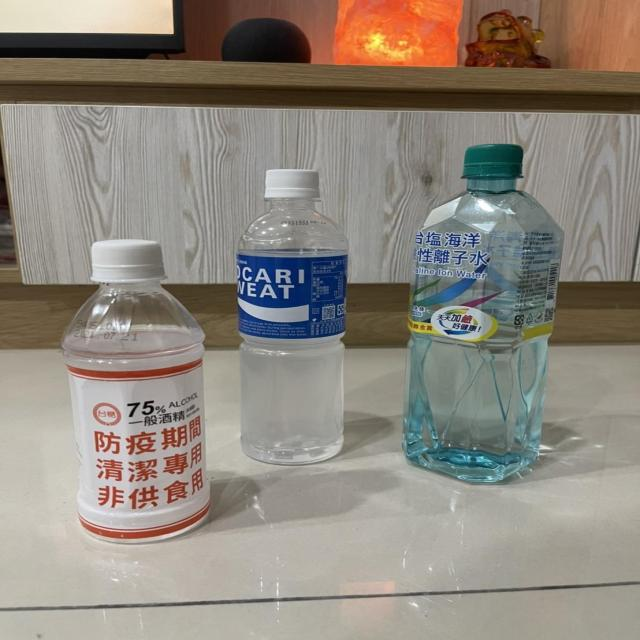bottle: (385, 111, 562, 506), (56, 232, 219, 538), (206, 161, 356, 469)
